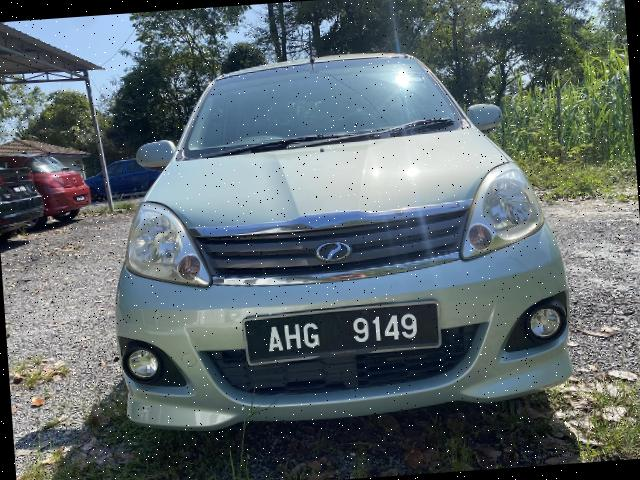License_Plate: (247, 306, 435, 363)
car: (94, 33, 577, 439)
